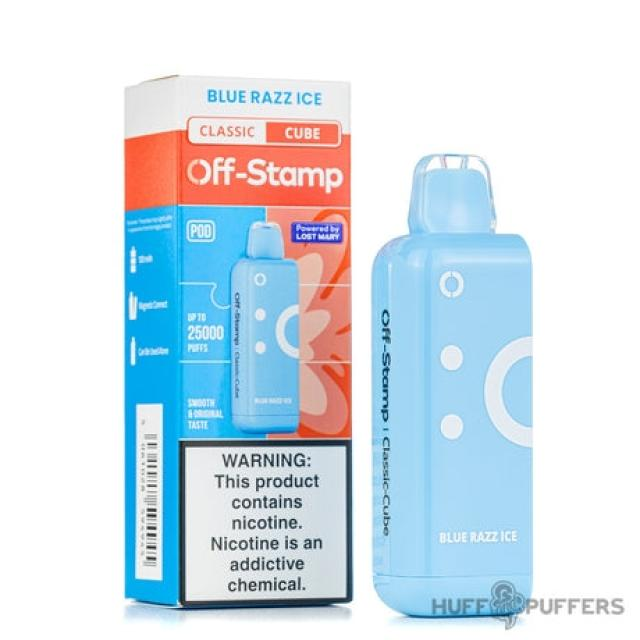Vape-images: (121, 74, 353, 609), (369, 152, 534, 623)
